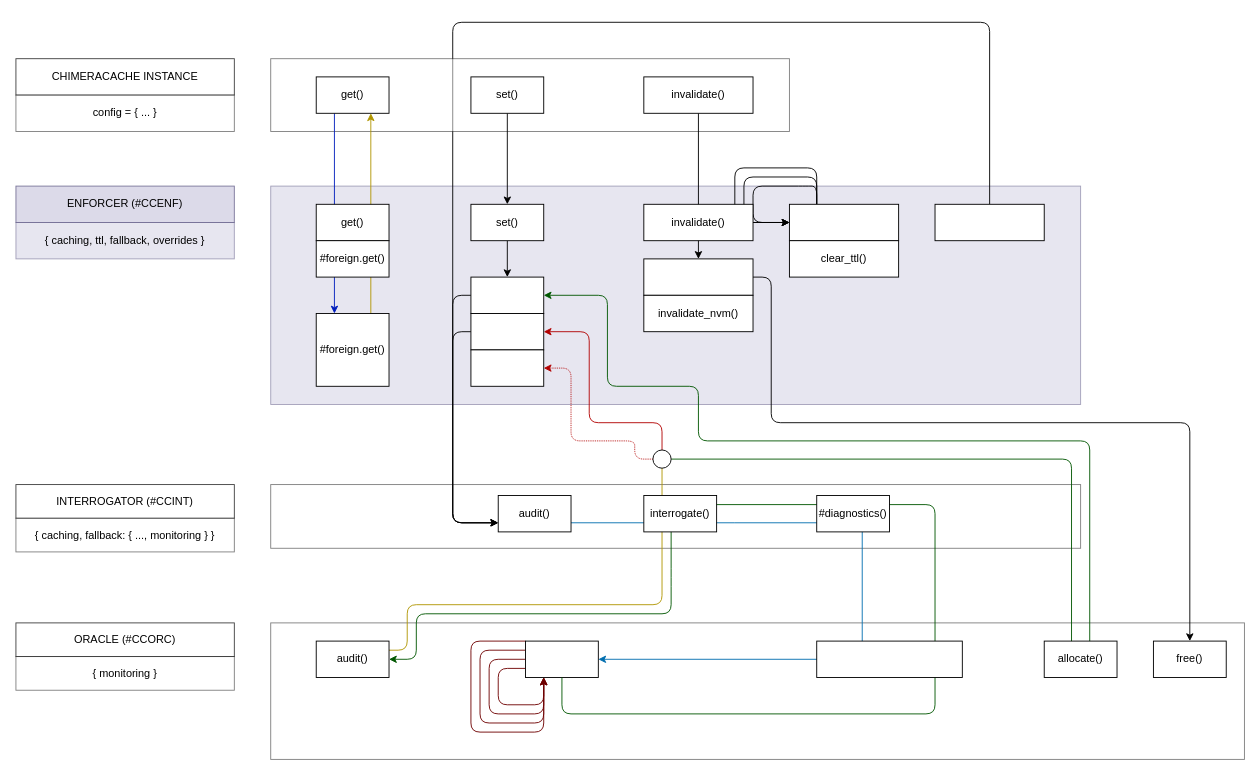
This 1260x775 diagram has some shape labels left out. The shapes that lost their labels are listed below. From the top down, each one's box as (x1, y1, x2, y2) in pixels, then its label:
(789, 203, 899, 241): init_ttl()
(934, 203, 1044, 241): enforce_limits()
(470, 276, 544, 313): set_vm()
(643, 258, 753, 295): invalidate_vm()
(470, 313, 544, 350): set_nvm()
(470, 349, 544, 386): #foreign.set()
(525, 640, 598, 677): #update()
(816, 640, 962, 677): performance_monitoring()
